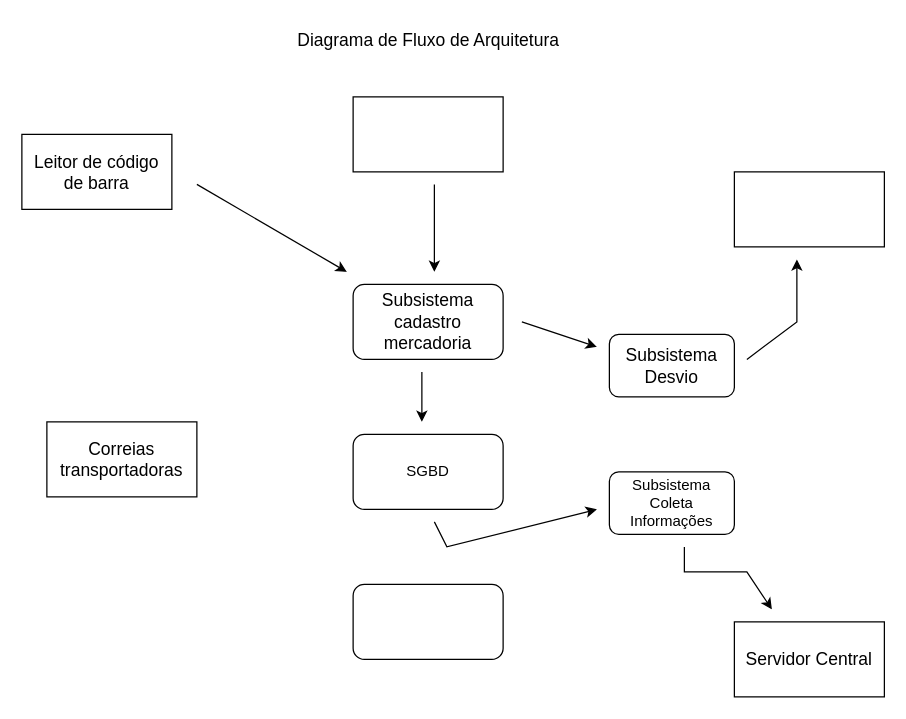
This 906x719 diagram has some shape labels left out. The box of each missing label's shape, as (x1, y1, x2, y2) in pixels:
Almoxarifado: (352, 96, 503, 172)
Desvio Mecânico: (733, 171, 884, 247)
Sistema Operação: (352, 583, 503, 659)
